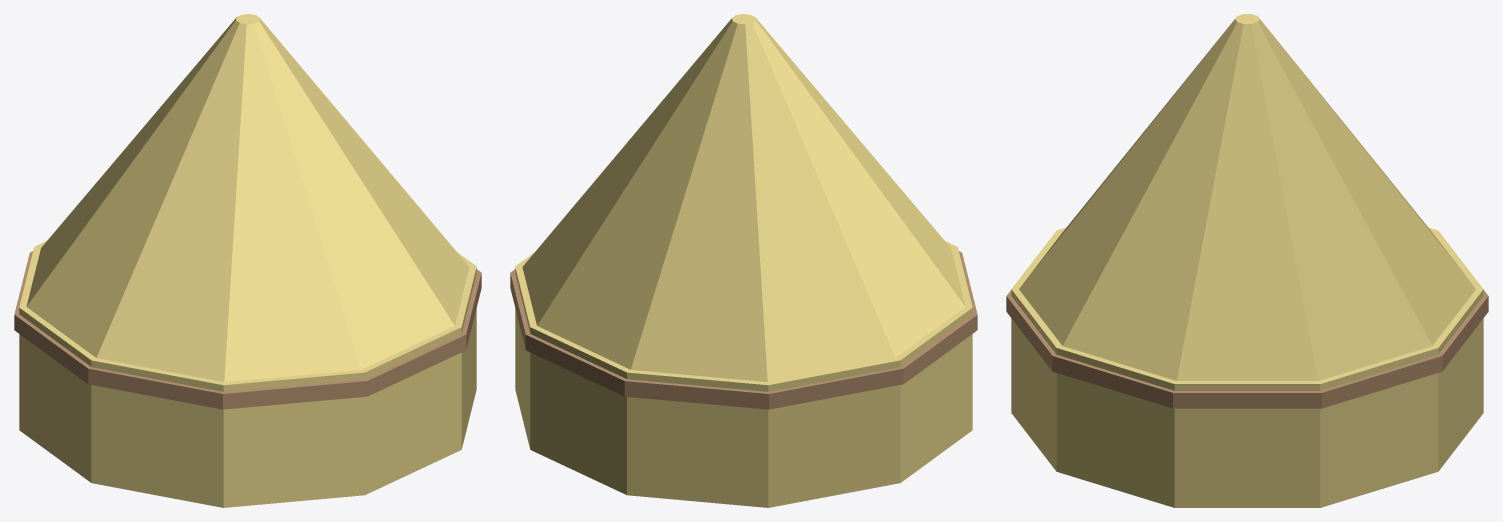
The model's file is haystack.glb.
The picture shows the model from 3 angles, left to right: view 1: azimuth 30°, elevation 25°; view 2: azimuth 150°, elevation 25°; view 3: azimuth 270°, elevation 25°; orthographic projection.
Parts seen in each view (by area): view 1: Player; view 2: Player; view 3: Player.
Part boxes in pixels (x1,y1,x2,y2): Player: (14, 14, 481, 507); Player: (510, 14, 977, 507); Player: (1006, 14, 1488, 507).
Bounding box in the file's own units: 1.85 × 1.75 × 1.94.
